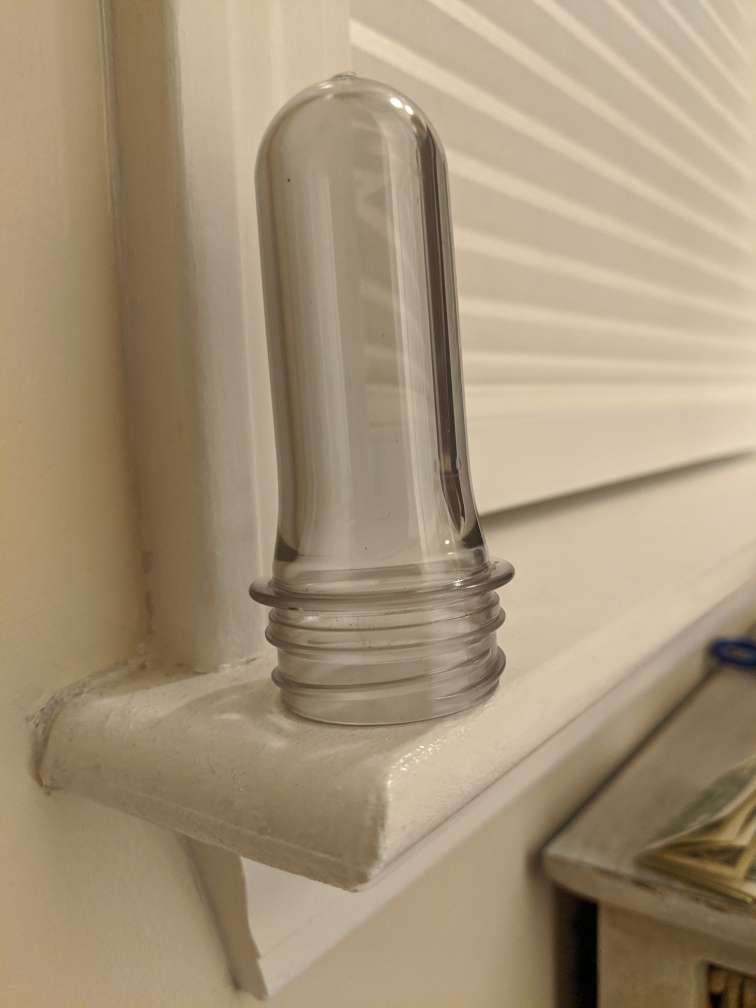preform: (232, 58, 521, 731)
